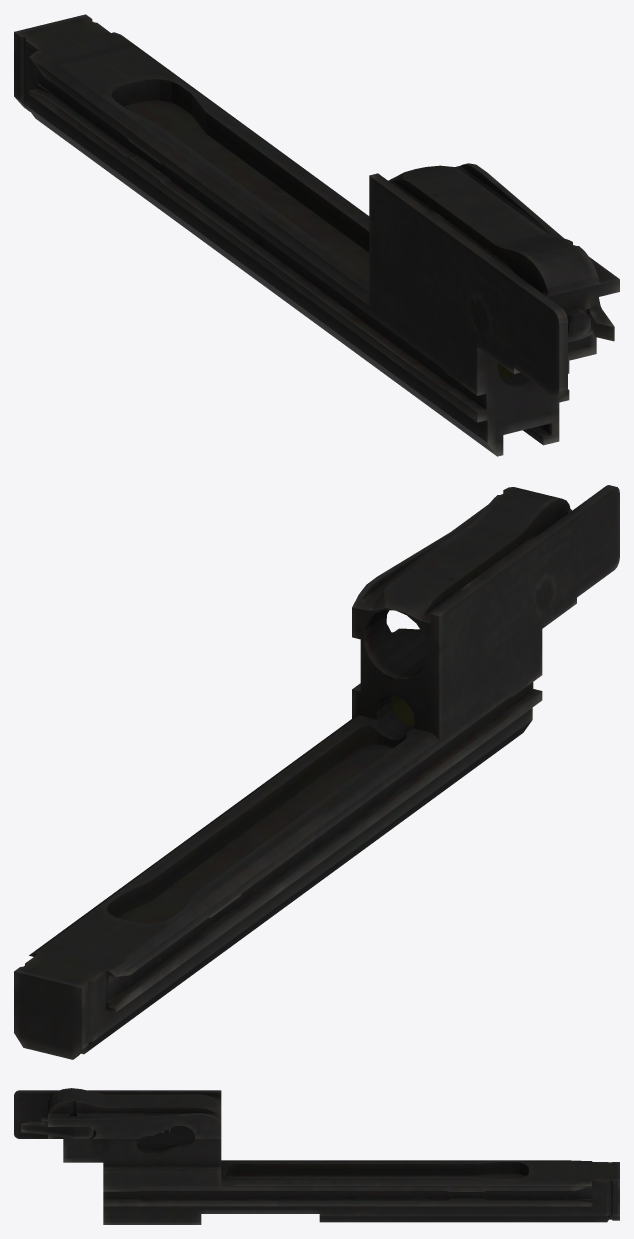
The picture shows the model from 3 angles, top to bottom: view 1: azimuth 30°, elevation 25°; view 2: azimuth 150°, elevation 25°; view 3: azimuth 270°, elevation 25°; orthographic projection. The views are drawn at different scales.
Visible parts, largest first — view 1: TW_5bd70322209c4d00d7167b8f_PZ_Import; view 2: TW_5bd70322209c4d00d7167b8f_PZ_Import; view 3: TW_5bd70322209c4d00d7167b8f_PZ_Import.
Part boxes in pixels (bbox=[...]): TW_5bd70322209c4d00d7167b8f_PZ_Import: bbox=[14, 14, 619, 456]; TW_5bd70322209c4d00d7167b8f_PZ_Import: bbox=[14, 485, 619, 1059]; TW_5bd70322209c4d00d7167b8f_PZ_Import: bbox=[14, 1088, 619, 1224].
Bounding box in the file's own units: 0.0103 × 0.1077 × 0.0236.
1 material, 1 textured.
